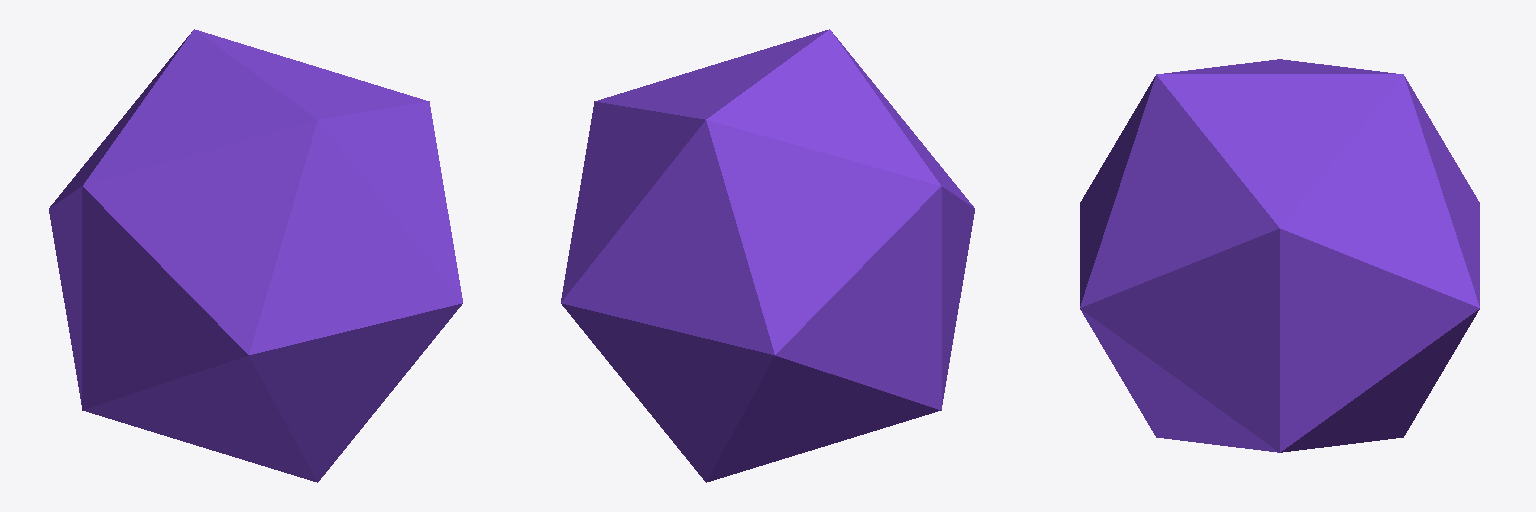
The model's file is icosahedron.obj.
3 views of the same model, side by side, from view 1: azimuth 30°, elevation 25°; view 2: azimuth 150°, elevation 25°; view 3: azimuth 270°, elevation 25° (orthographic).
Parts seen in each view (by area): view 1: Hedra001; view 2: Hedra001; view 3: Hedra001.
Part boxes in pixels (left/top/right/bottom): Hedra001: left=49, top=29, right=462, bottom=482; Hedra001: left=561, top=29, right=974, bottom=482; Hedra001: left=1080, top=59, right=1479, bottom=452.
Bounding box in the file's own units: 272 × 272 × 272.